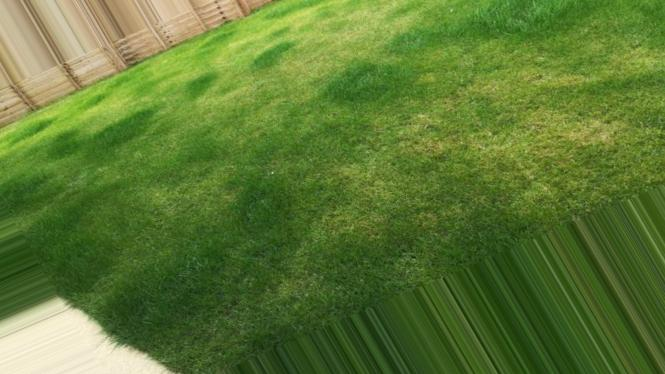patch: (552, 118, 612, 145), (319, 17, 373, 40), (96, 100, 136, 121), (171, 50, 204, 72), (303, 57, 332, 82), (222, 46, 247, 70)
